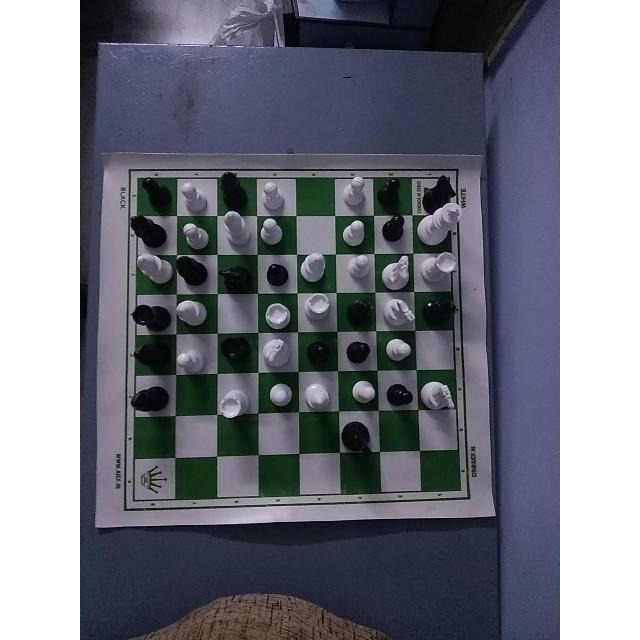black-bishop: (125, 208, 177, 248), (215, 167, 254, 211), (129, 338, 175, 374), (128, 384, 172, 420), (172, 254, 208, 290), (420, 299, 463, 325), (345, 295, 379, 327)
black-knight: (340, 418, 380, 460), (217, 253, 255, 297), (422, 171, 458, 213)
black-pawn: (134, 172, 170, 210), (380, 380, 419, 414), (342, 337, 376, 370), (263, 256, 293, 293), (378, 173, 406, 209), (305, 337, 336, 367), (380, 215, 406, 247)
black-rook: (131, 298, 173, 336), (219, 334, 254, 371)
white-bishop: (131, 251, 176, 288), (217, 210, 251, 248), (296, 250, 327, 290), (300, 380, 338, 412), (173, 299, 209, 328)
white-king: (417, 199, 467, 246)
white-knight: (378, 252, 416, 292), (421, 379, 459, 416), (380, 298, 419, 332), (259, 339, 298, 371)
white-pawn: (336, 216, 372, 249), (257, 214, 292, 247), (178, 180, 214, 212), (176, 342, 208, 377), (343, 253, 373, 289), (383, 335, 415, 367), (349, 376, 379, 409), (343, 173, 369, 209), (179, 218, 208, 250), (268, 380, 296, 413), (260, 178, 287, 211)
white-rook: (299, 291, 339, 327), (420, 250, 460, 282), (217, 386, 253, 421), (262, 299, 294, 333)
